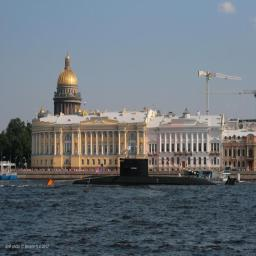submarine: (72, 159, 222, 185)
